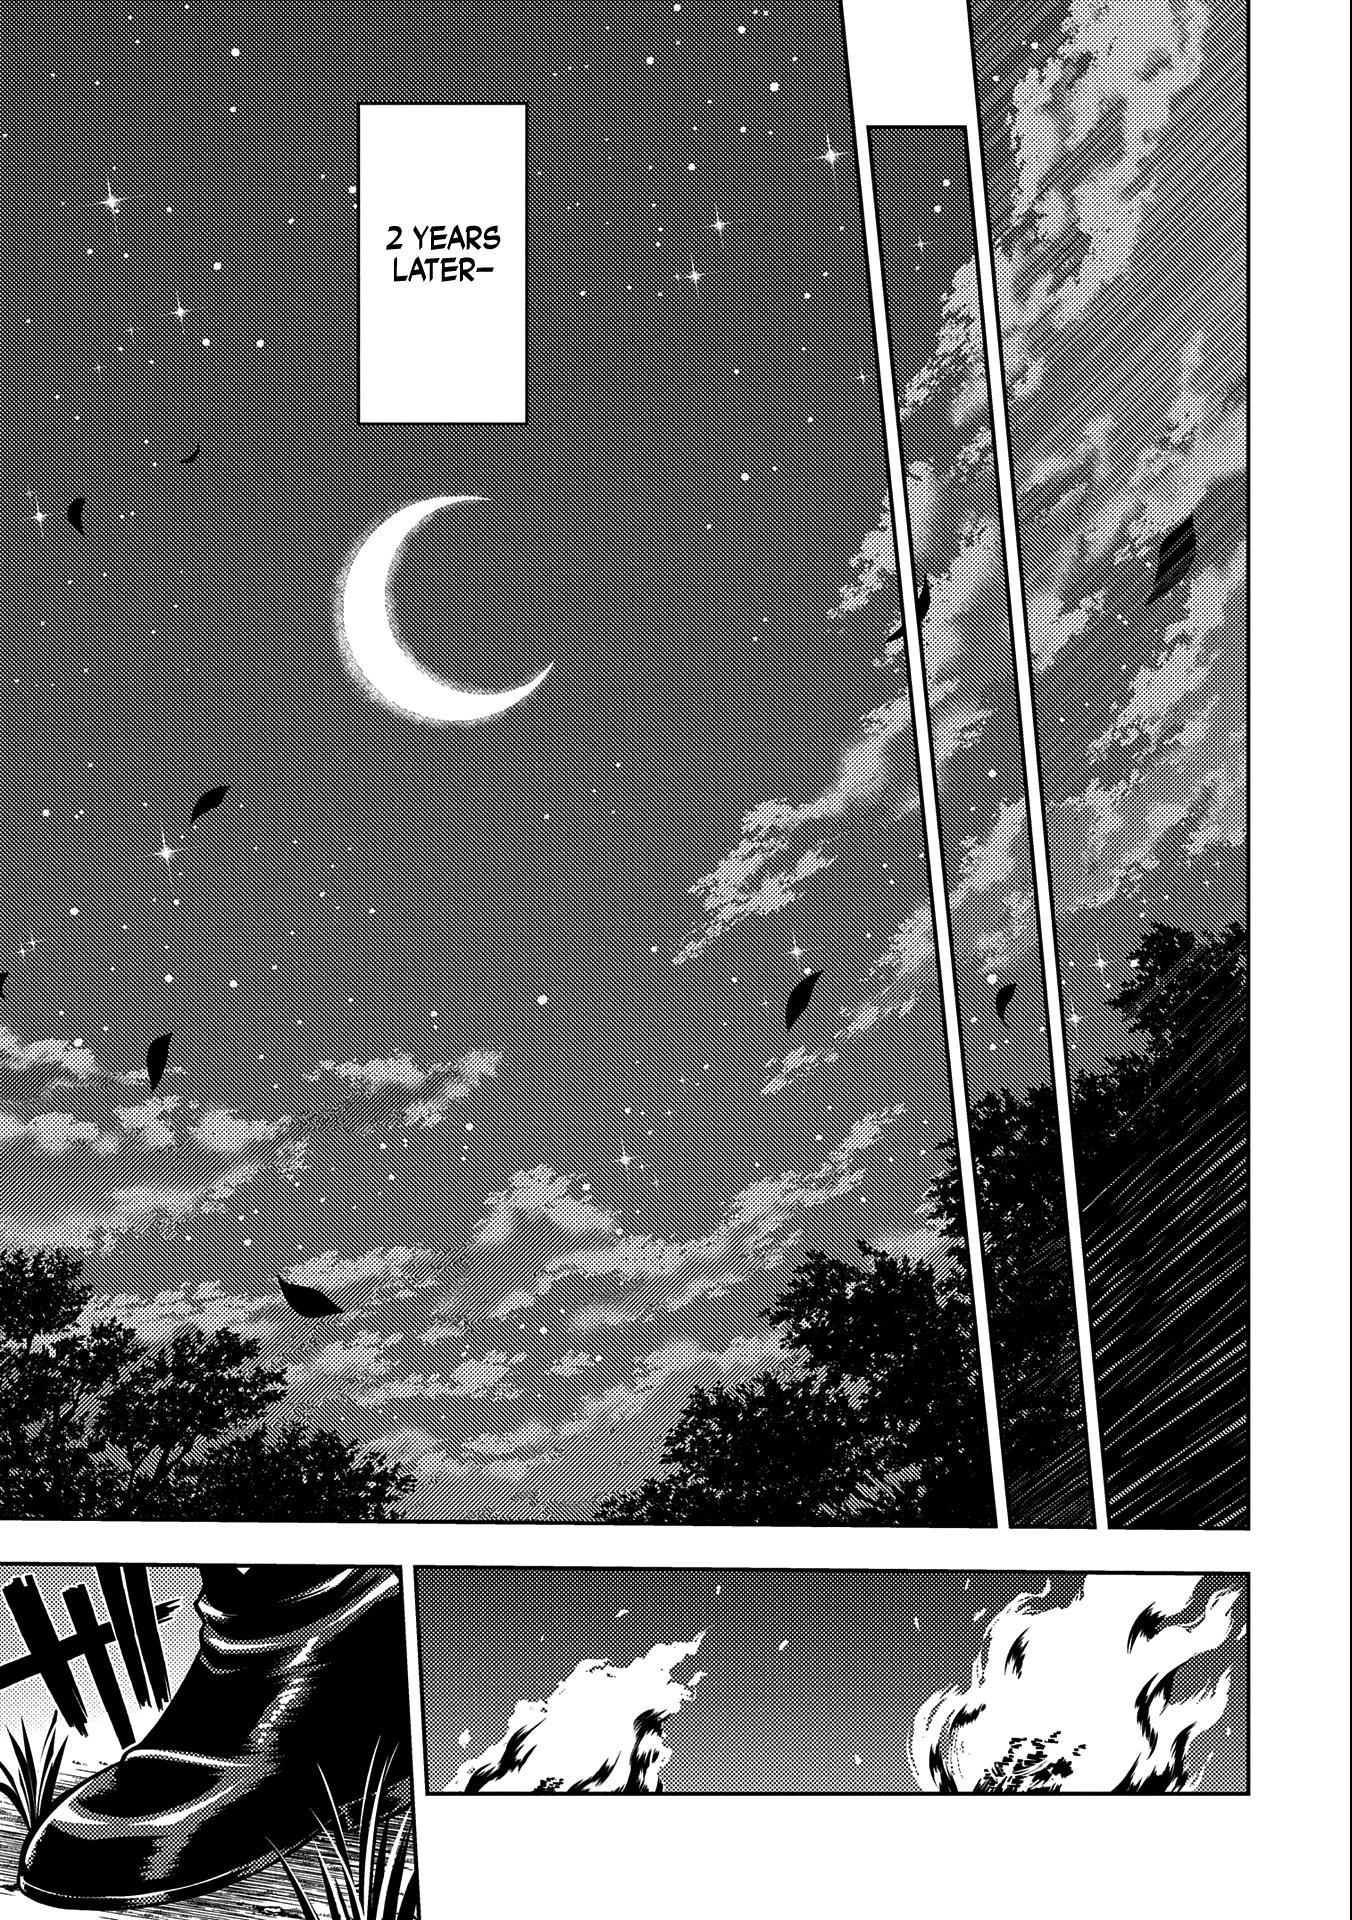Bubble: (353, 97, 534, 429)
